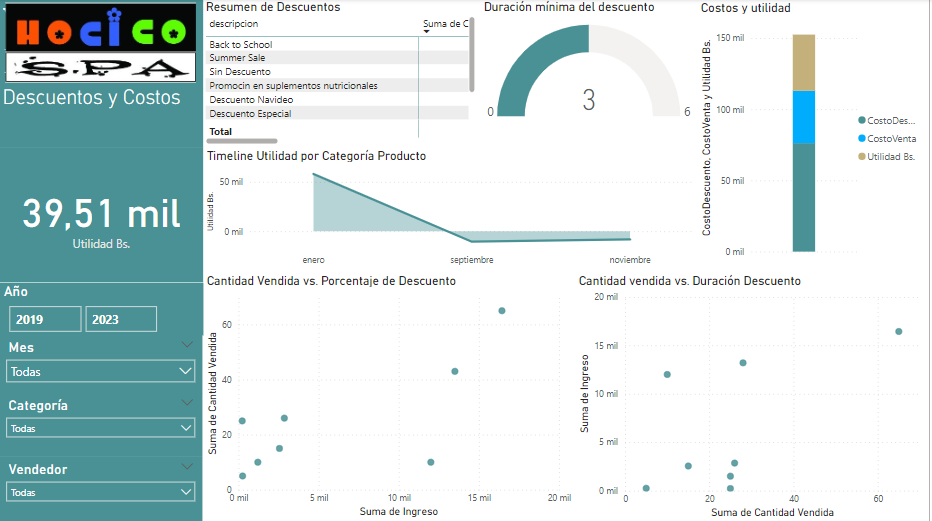

What the dashboard file says about the page in this screenshot:
{"tool":"powerbi","page":{"name":"descuentos y costos","canvas":[1280,720],"ordinal":1},"visuals":[{"type":"scatterChart","title":"Cantidad Vendida vs. Porcentaje de Descuento","fields":{"X":["Sum(f_venta.Ingreso)"],"Y":["Sum(f_venta.Cantidad Vendida)"],"Category":["d_descuento.porcentaje"]},"box":[281.3,377.3,512,341.3],"z":0},{"type":"stackedAreaChart","title":"Timeline Utilidad por Categoría Producto","fields":{"Category":["veterinaria_sis2 d_tiempo.fecha.Variación.Jerarquía de fechas.Mes"],"Y":["VeterinariaMedidas.Utilidad"]},"box":[281.3,205.3,680,172],"z":1000},{"type":"scatterChart","title":"Cantidad vendida vs. Duración Descuento","fields":{"X":["Sum(f_venta.Cantidad Vendida)"],"Category":["d_descuento.duracion_dias"],"Y":["Sum(f_venta.Ingreso)"]},"box":[793.3,377.3,486.7,342.7],"z":2000},{"type":"pivotTable","title":"Resumen de Descuentos","fields":{"Rows":["d_descuento.descripcion"],"Values":["Sum(f_venta.Cantidad Vendida)","VeterinariaMedidas.UtilidadRelativa"]},"box":[280,0,381.3,205.3],"z":3000},{"type":"columnChart","title":"Costos y utilidad","fields":{"Y":["VeterinariaMedidas.CostoDescuento","VeterinariaMedidas.CostoVenta","VeterinariaMedidas.UtilidadRelativa"]},"box":[960.9,1.8,319.1,360.3],"z":4000},{"type":"gauge","title":"Duración mínima del descuento","fields":{"Y":["Min(d_descuento.duracion_dias)"]},"box":[661.5,0,299.4,182.9],"z":5000},{"type":"card","title":"Utilidad","fields":{"Values":["VeterinariaMedidas.Utilidad"]},"box":[0,205.3,281.3,185.3],"z":6000},{"type":"textbox","box":[0,0,281.2,205],"z":7000},{"type":"slicer","title":"Categoría","fields":{"Values":["veterinaria_sis2 d_categoria.nombre"]},"box":[0,542.7,280,88],"z":8000},{"type":"slicer","title":"Vendedor","fields":{"Values":["veterinaria_sis2 d_vendedor.usuario"]},"box":[0,630.7,280,89.3],"z":9000},{"type":"slicer","fields":{"Values":["veterinaria_sis2 d_tiempo.fecha.Variación.Jerarquía de fechas.Mes"]},"box":[0,462.7,280,80],"z":10000},{"type":"slicer","title":"Año","fields":{"Values":["veterinaria_sis2 d_tiempo.fecha.Variación.Jerarquía de fechas.Año"]},"box":[1.3,390.7,280,72],"z":11000},{"type":"image","box":[0,0,279.4,119.7],"z":12000}]}

Visuals, with their boxes in screenshot pixels (x1, y1, x2, y2), scaled from the page's 1280x720 canvas onto the 932x521 screenshot:
"Cantidad Vendida vs. Porcentaje de Descuento" scatterChart: l=205, t=273, r=578, b=520
"Timeline Utilidad por Categoría Producto" stackedAreaChart: l=205, t=149, r=700, b=273
"Cantidad vendida vs. Duración Descuento" scatterChart: l=578, t=273, r=931, b=520
"Resumen de Descuentos" pivotTable: l=204, t=0, r=482, b=149
"Costos y utilidad" columnChart: l=700, t=1, r=931, b=262
"Duración mínima del descuento" gauge: l=482, t=0, r=700, b=132
"Utilidad" card: l=0, t=149, r=205, b=283
textbox: l=0, t=0, r=205, b=148
"Categoría" slicer: l=0, t=393, r=204, b=456
"Vendedor" slicer: l=0, t=456, r=204, b=520
slicer - veterinaria_sis2 d_tiempo.fecha.Variación.Jerarquía de fechas.Mes: l=0, t=335, r=204, b=393
"Año" slicer: l=1, t=283, r=205, b=335
image: l=0, t=0, r=203, b=87
